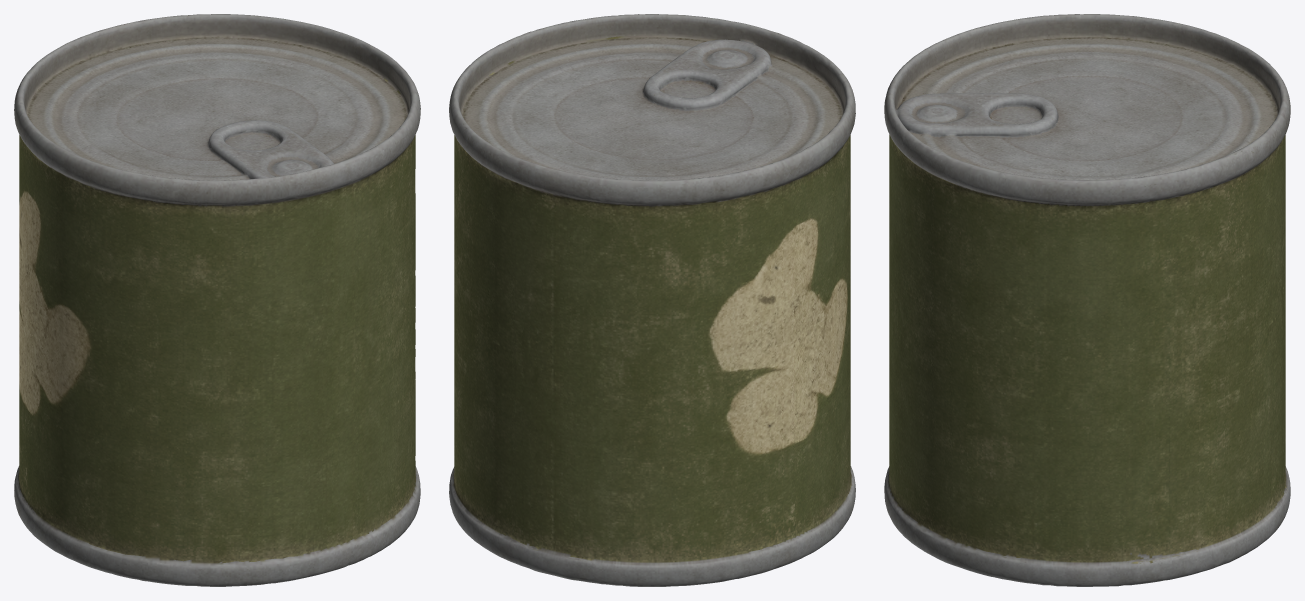
Rendered from raw.glb.
3 views of the same model, side by side, from view 1: azimuth 30°, elevation 25°; view 2: azimuth 150°, elevation 25°; view 3: azimuth 270°, elevation 25° (orthographic).
Bounding box in the file's own units: 0.9133 × 1.01 × 0.9135.
1 material, 1 textured.
